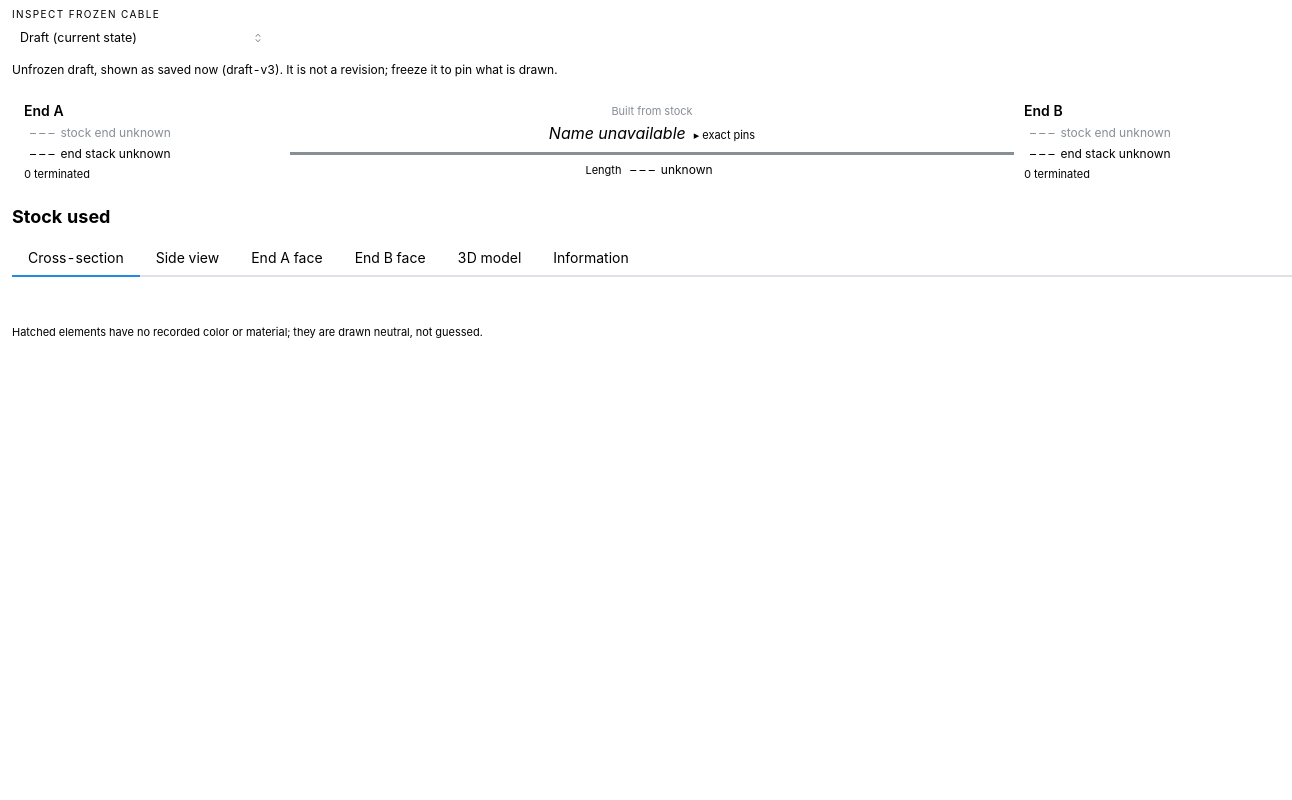
Test: a never-frozen cable shows its draft as saved now, with the stock drawn from it
This screenshot has width=1292, height=800.
Expected: the text "Unfrozen draft, shown as saved now (draft-v3)" is shown, left=12, top=62, right=557, bottom=77
Click the tab "Information".
click(591, 259)  # box left=537, top=241, right=645, bottom=277
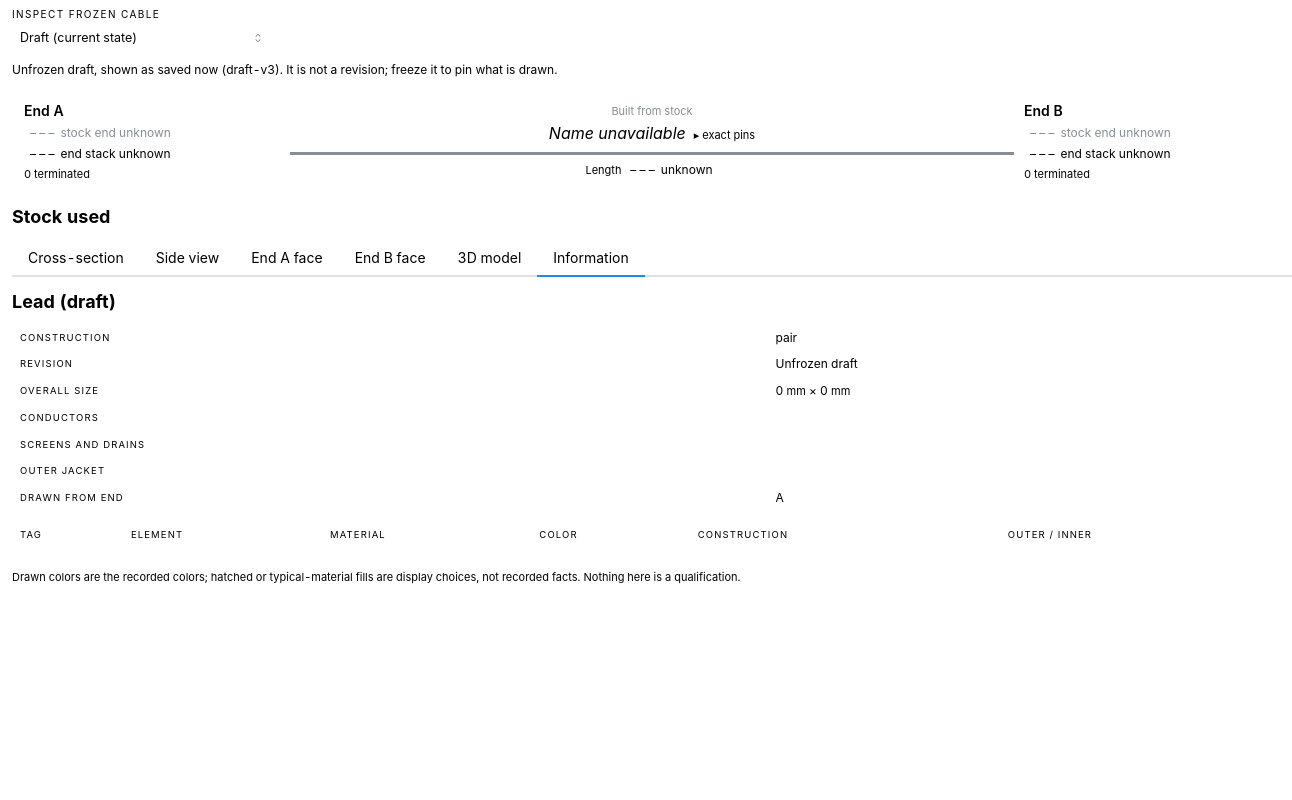
Expected: the text "Unfrozen draft" is shown, left=768, top=351, right=1291, bottom=378
